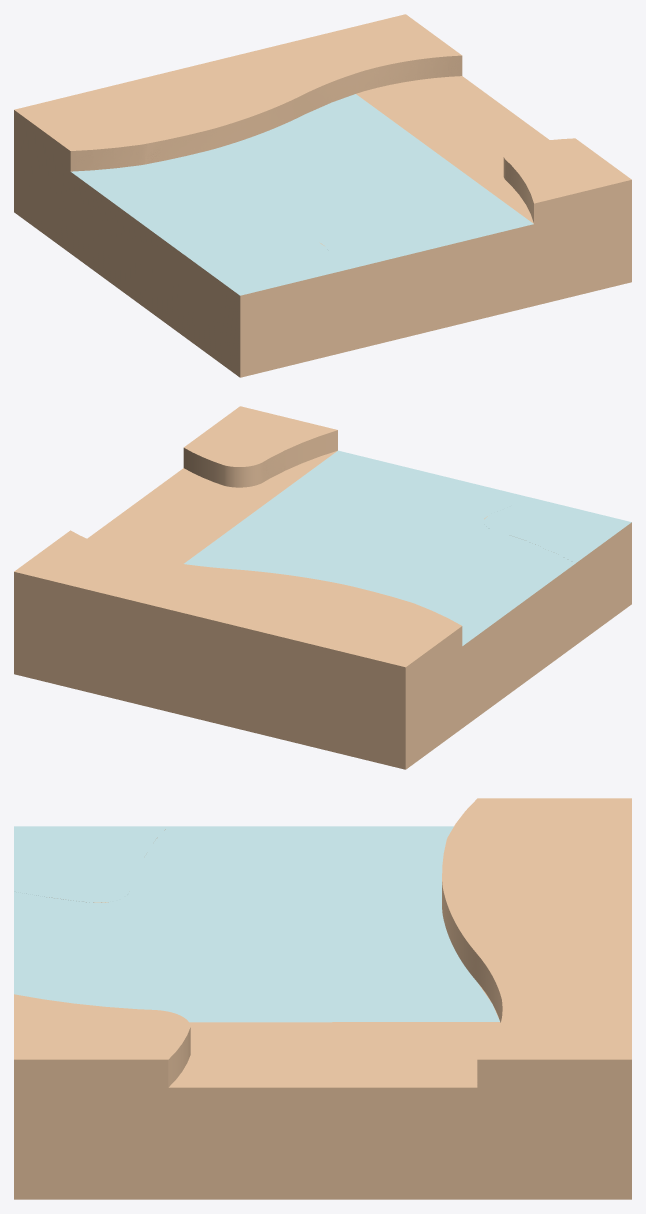
Rendered from R Blend.fbx.
The picture shows the model from 3 angles, top to bottom: view 1: azimuth 30°, elevation 25°; view 2: azimuth 150°, elevation 25°; view 3: azimuth 270°, elevation 25°; orthographic projection. The views are drawn at different scales.
Parts seen in each view (by area): view 1: ground_dirtRiverT; view 2: ground_dirtRiverT; view 3: ground_dirtRiverT.
Boxes of the visible parts, x1,y1,x2,y2 form: ground_dirtRiverT: (14, 14, 631, 377); ground_dirtRiverT: (14, 406, 631, 769); ground_dirtRiverT: (14, 798, 631, 1199).
Size of the model in its own units: 1000 by 250 by 1000.
